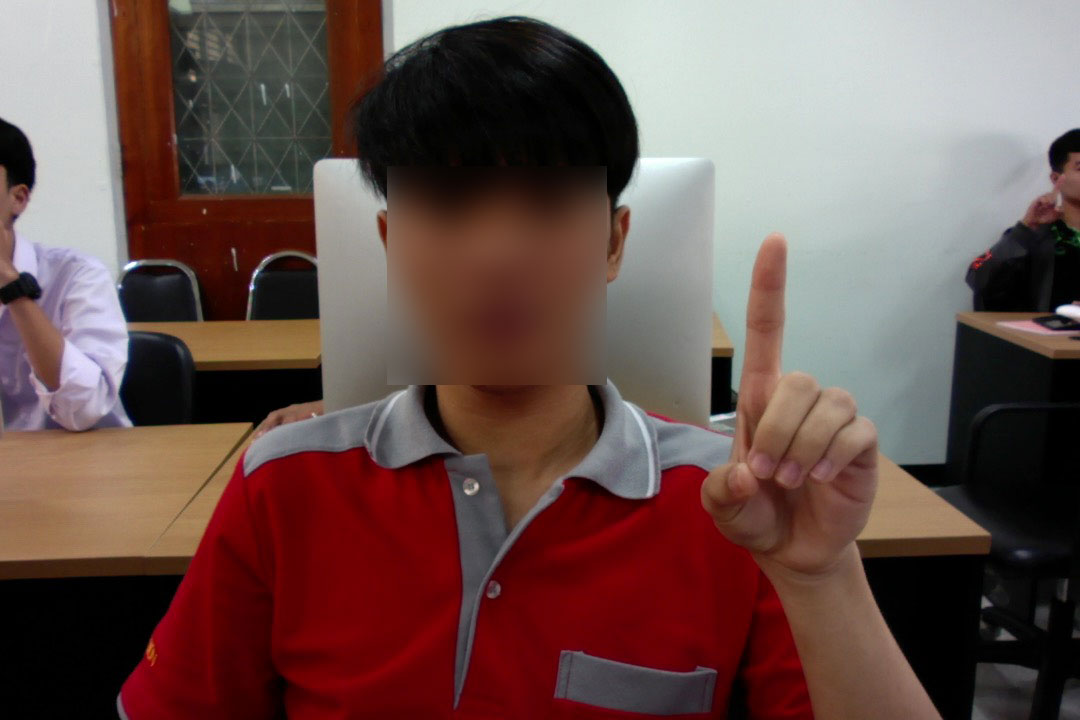dor: (698, 228, 888, 588)
